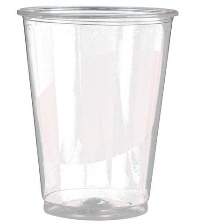glass: (11, 4, 181, 223)
